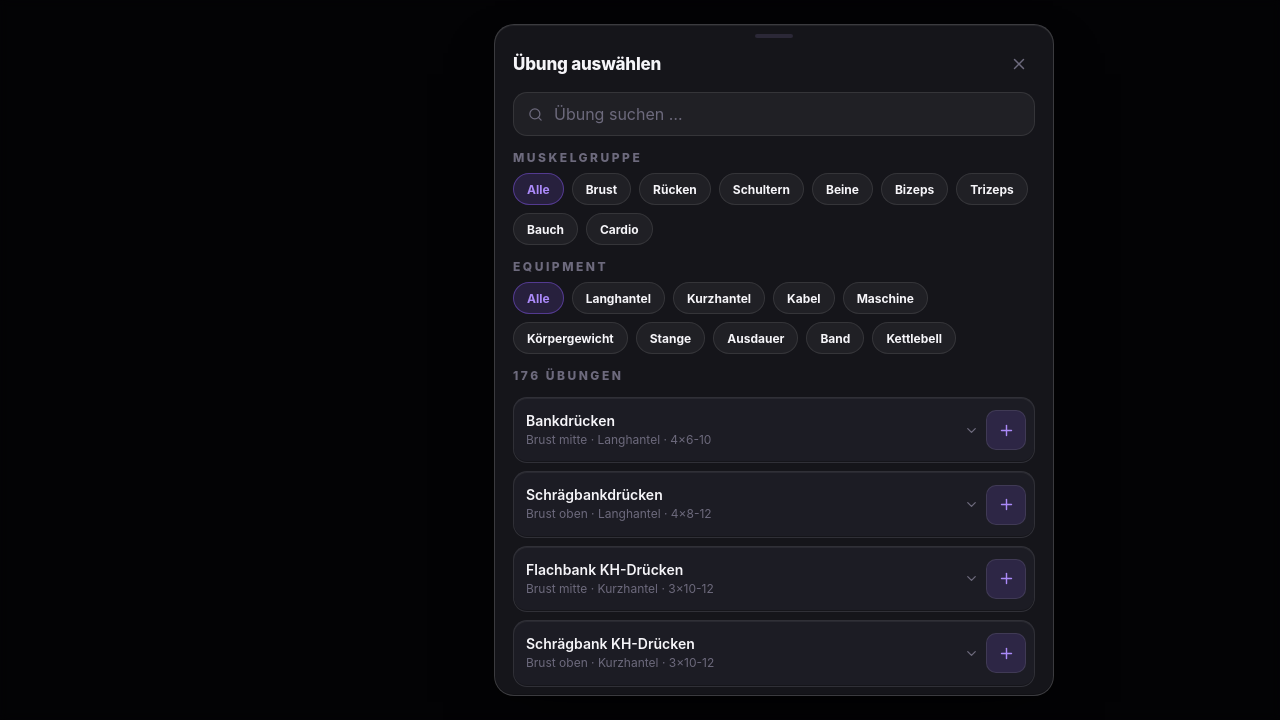
ExercisePickerSheet renders and works › expands an exercise into a full explanation
Type "Pike Push-ups" into the field labelled "Übung suchen" at (786, 114), box [552, 103, 1020, 125]
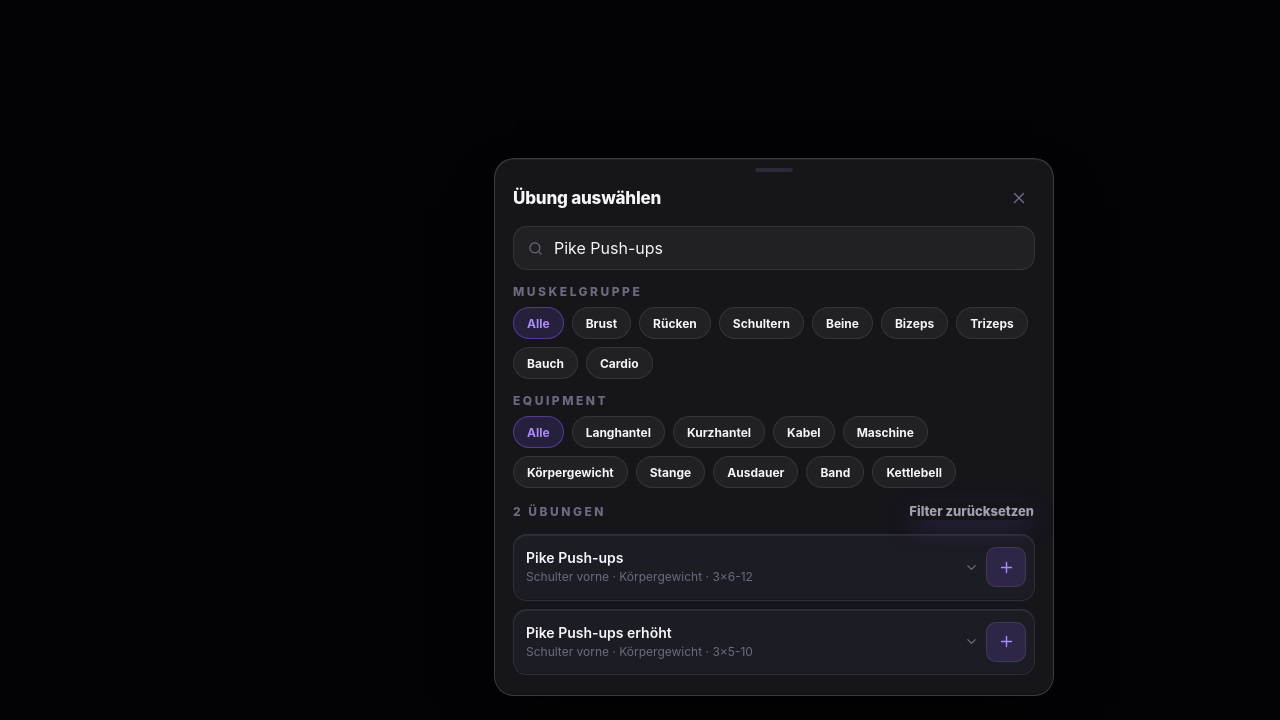
Click the button "Pike Push-ups Schulter vorne · Körpergewicht · 3×6-12" at (742, 567), box [526, 539, 958, 596]
(page scrolled)
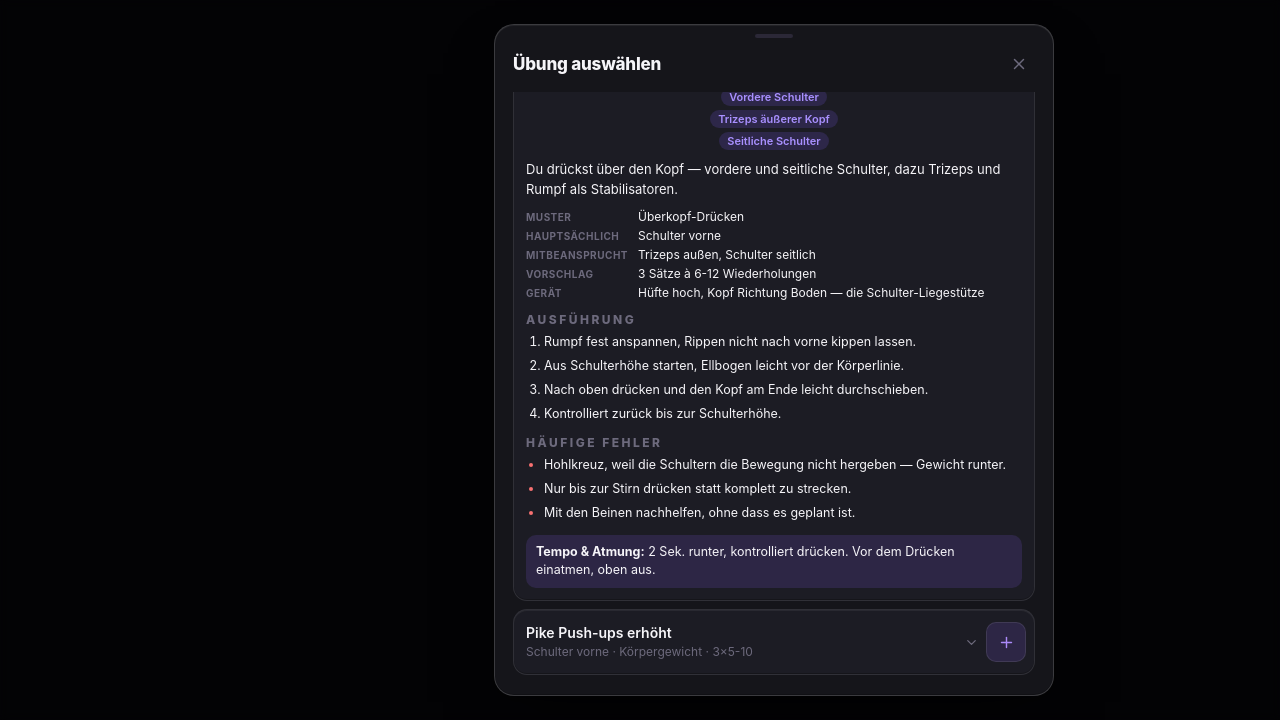
Now the text "Überkopf-Drücken" is shown, box [638, 209, 744, 224]
Now the text "Hauptsächlich" is shown, box [526, 228, 628, 243]
Now the text "Ausführung" is shown, box [526, 312, 636, 327]
